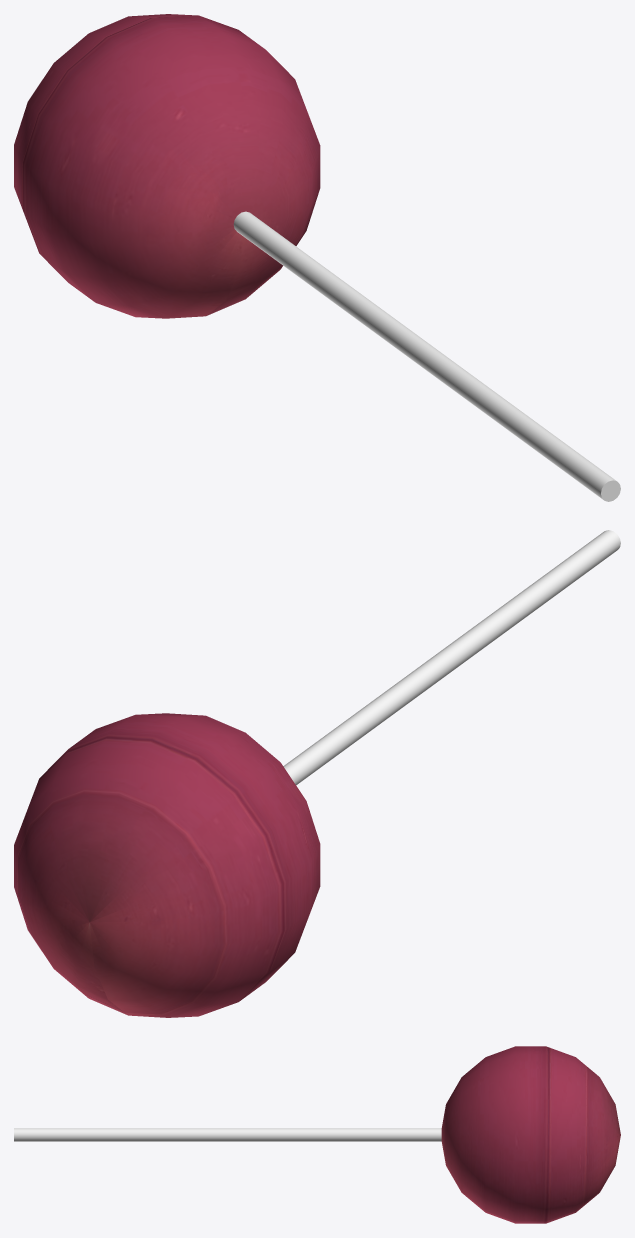
File: sp_lollipop_2.FBX
3 renders of one model, top to bottom at view 1: azimuth 30°, elevation 25°; view 2: azimuth 150°, elevation 25°; view 3: azimuth 270°, elevation 25°, orthographic. The views are drawn at different scales.
Parts seen in each view (by area): view 1: sp_lollipop_2; view 2: sp_lollipop_2; view 3: sp_lollipop_2.
Boxes of the visible parts, x1,y1,x2,y2 form: sp_lollipop_2: [14, 14, 620, 501]; sp_lollipop_2: [14, 530, 620, 1017]; sp_lollipop_2: [14, 1046, 620, 1223].
Bounding box in the file's own units: 1.53 × 5.3 × 1.55.
